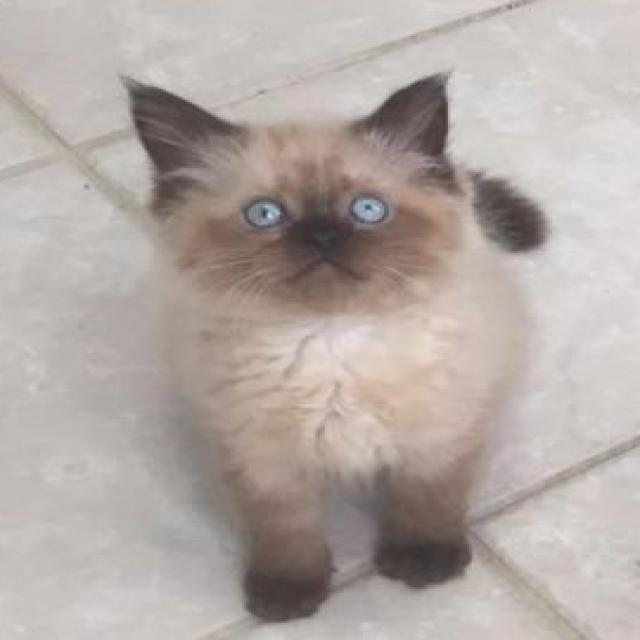Birman: (114, 64, 556, 629)
